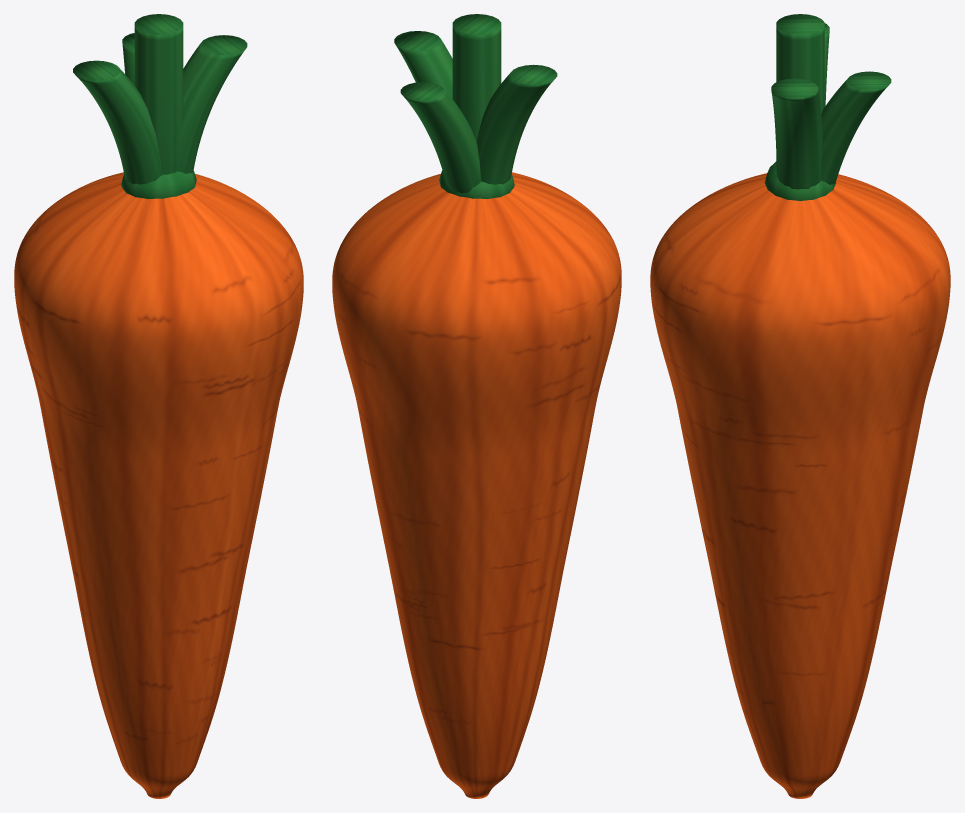
The model's file is Crop_Carrot_Normal_v001_model_r03.fbx.
The picture shows the model from 3 angles, left to right: view 1: azimuth 30°, elevation 25°; view 2: azimuth 150°, elevation 25°; view 3: azimuth 270°, elevation 25°; orthographic projection.
Visible parts, largest first — view 1: Crop_Carrot_Normal_v001_Body_Textured_r03, LeafStem_Primary_Center_Textured_r03, LeafStem_Secondary_Left_Textured_r03, LeafStem_Primary_Right_Textured_r03, LeafStem_RoundedRoot_Knot_Textured_r03, LeafStem_Shadow_Back_Textured_r03; view 2: Crop_Carrot_Normal_v001_Body_Textured_r03, LeafStem_Secondary_Left_Textured_r03, LeafStem_Primary_Center_Textured_r03, LeafStem_Shadow_Back_Textured_r03, LeafStem_Primary_Right_Textured_r03, LeafStem_RoundedRoot_Knot_Textured_r03; view 3: Crop_Carrot_Normal_v001_Body_Textured_r03, LeafStem_Primary_Right_Textured_r03, LeafStem_Shadow_Back_Textured_r03, LeafStem_Primary_Center_Textured_r03, LeafStem_RoundedRoot_Knot_Textured_r03.
Boxes of the visible parts, x1=… form: Crop_Carrot_Normal_v001_Body_Textured_r03: x1=14, y1=172, x2=303, y2=798; LeafStem_Primary_Center_Textured_r03: x1=134, y1=14, x2=183, y2=174; LeafStem_Secondary_Left_Textured_r03: x1=73, y1=60, x2=162, y2=184; LeafStem_Primary_Right_Textured_r03: x1=177, y1=35, x2=247, y2=173; LeafStem_RoundedRoot_Knot_Textured_r03: x1=121, y1=170, x2=196, y2=198; LeafStem_Shadow_Back_Textured_r03: x1=122, y1=33, x2=134, y2=85; Crop_Carrot_Normal_v001_Body_Textured_r03: x1=332, y1=172, x2=621, y2=798; LeafStem_Secondary_Left_Textured_r03: x1=476, y1=64, x2=557, y2=184; LeafStem_Primary_Center_Textured_r03: x1=452, y1=14, x2=501, y2=141; LeafStem_Shadow_Back_Textured_r03: x1=400, y1=82, x2=481, y2=193; LeafStem_Primary_Right_Textured_r03: x1=394, y1=31, x2=452, y2=171; LeafStem_RoundedRoot_Knot_Textured_r03: x1=439, y1=170, x2=514, y2=198; Crop_Carrot_Normal_v001_Body_Textured_r03: x1=650, y1=173, x2=950, y2=798; LeafStem_Primary_Right_Textured_r03: x1=771, y1=78, x2=822, y2=189; LeafStem_Shadow_Back_Textured_r03: x1=821, y1=71, x2=891, y2=184; LeafStem_Primary_Center_Textured_r03: x1=776, y1=14, x2=824, y2=166; LeafStem_RoundedRoot_Knot_Textured_r03: x1=764, y1=161, x2=836, y2=200.
Size of the model in its own units: 99.72 by 297 by 105.
7 materials, 6 textured.
